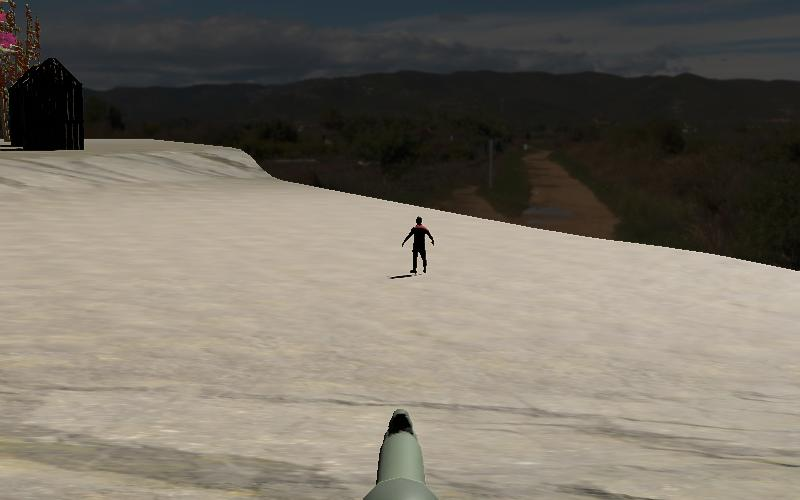Human: (399, 212, 439, 279)
